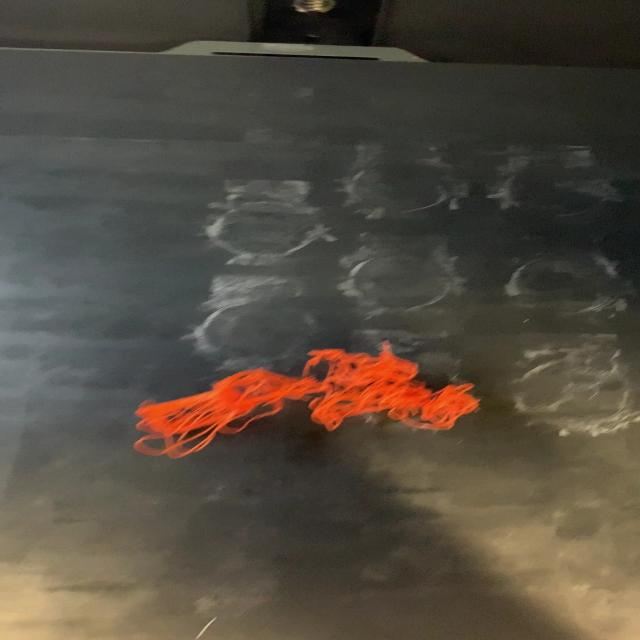spaghetti: (128, 338, 485, 462)
